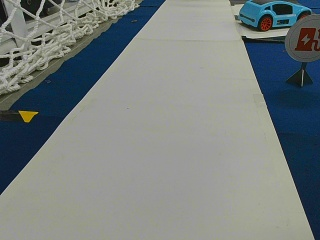battery: (286, 12, 319, 62)
car: (239, 0, 312, 29)
